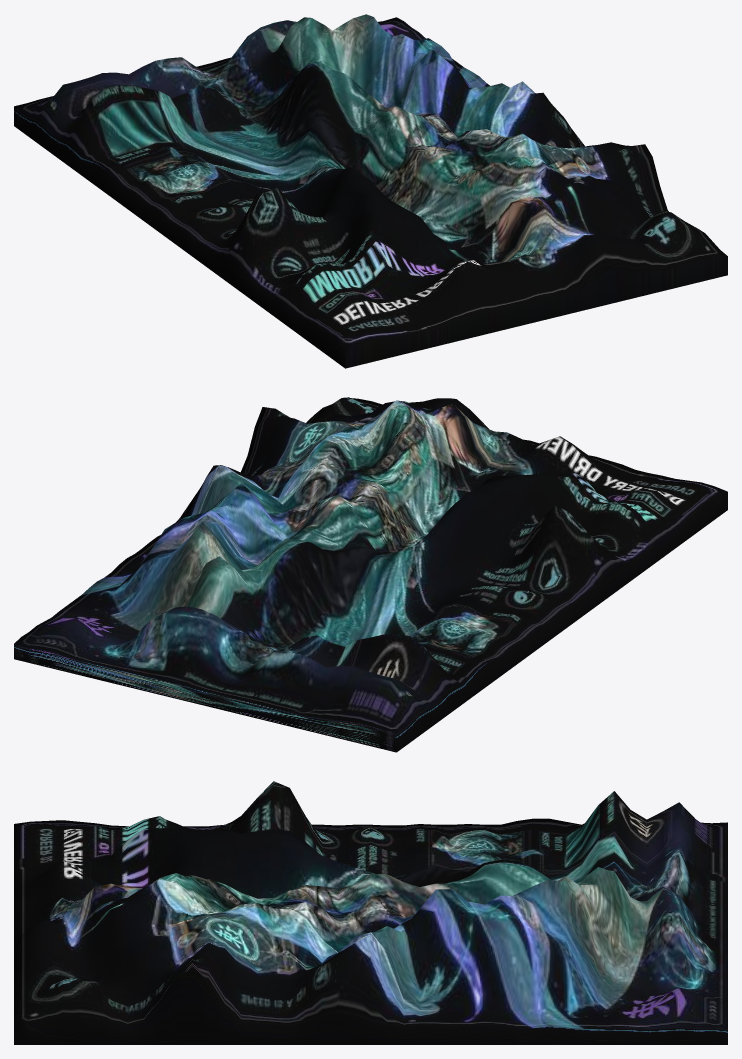
The model's file is CAREER_02_Outfit_06_Immortal.glb.
3 views of the same model, one above another, from view 1: azimuth 30°, elevation 25°; view 2: azimuth 150°, elevation 25°; view 3: azimuth 270°, elevation 25° (orthographic). The views are drawn at different scales.
Visible parts, largest first — view 1: CAREER_02_Outfit_06_Immortal; view 2: CAREER_02_Outfit_06_Immortal; view 3: CAREER_02_Outfit_06_Immortal.
Part boxes in pixels (x1,y1,x2,y2): CAREER_02_Outfit_06_Immortal: (14, 14, 727, 368); CAREER_02_Outfit_06_Immortal: (14, 397, 727, 752); CAREER_02_Outfit_06_Immortal: (14, 781, 727, 1044).
Size of the model in its own units: 2 by 0.51 by 3.
Materials: 1 (1 with a texture image).
